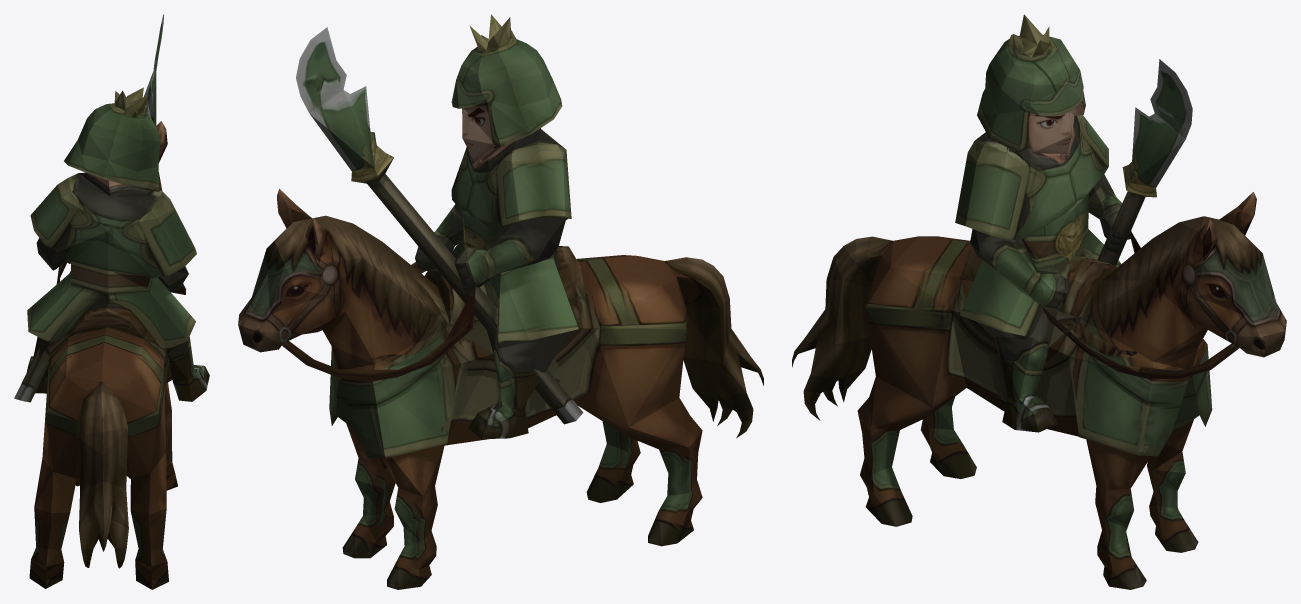
File: unit.glb
3 renders of one model, left to right at view 1: azimuth 30°, elevation 25°; view 2: azimuth 150°, elevation 25°; view 3: azimuth 270°, elevation 25°, orthographic. The views are drawn at different scales.
Parts seen in each view (by area): view 1: tripo_node_3611bf72-b8f7-4126-8cc9-9108ad983117; view 2: tripo_node_3611bf72-b8f7-4126-8cc9-9108ad983117; view 3: tripo_node_3611bf72-b8f7-4126-8cc9-9108ad983117.
Boxes of the visible parts, x1,y1,x2,y2 form: tripo_node_3611bf72-b8f7-4126-8cc9-9108ad983117: [14, 14, 209, 589]; tripo_node_3611bf72-b8f7-4126-8cc9-9108ad983117: [238, 14, 763, 589]; tripo_node_3611bf72-b8f7-4126-8cc9-9108ad983117: [792, 14, 1286, 589].
Size of the model in its own units: 0.5879 by 0.998 by 0.8418.
Materials: 1 (1 with a texture image).
